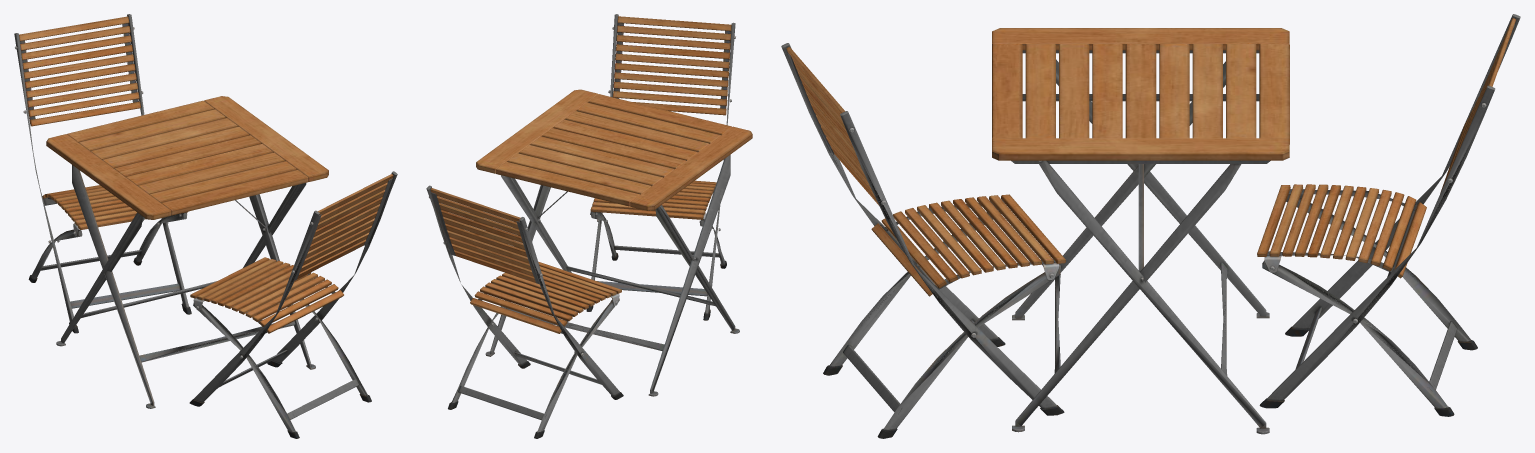
The model's file is ph_cafe.glb.
3 views of the same model, side by side, from view 1: azimuth 30°, elevation 25°; view 2: azimuth 150°, elevation 25°; view 3: azimuth 270°, elevation 25° (orthographic). The views are drawn at different scales.
Size of the model in its own units: 0.7417 by 0.861 by 1.72.
2 materials, 2 textured.
